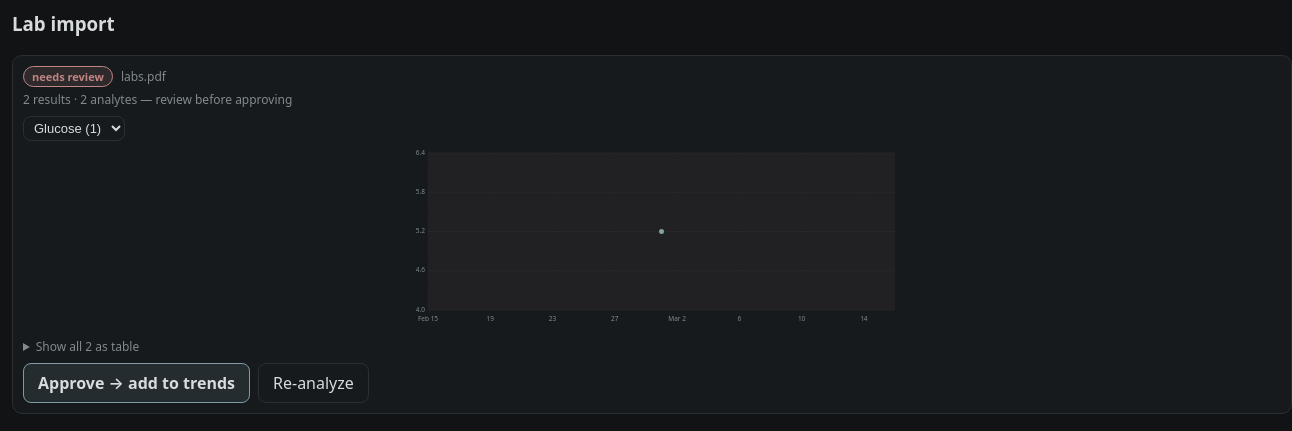
Scenario: LabImportPanel — approve › Approve posts to the approve endpoint and reflects the approved state
The width and height of the screenshot is (1292, 431).
Click the button "Approve → add to trends". click: click(136, 383)
box: [23,363,250,403]
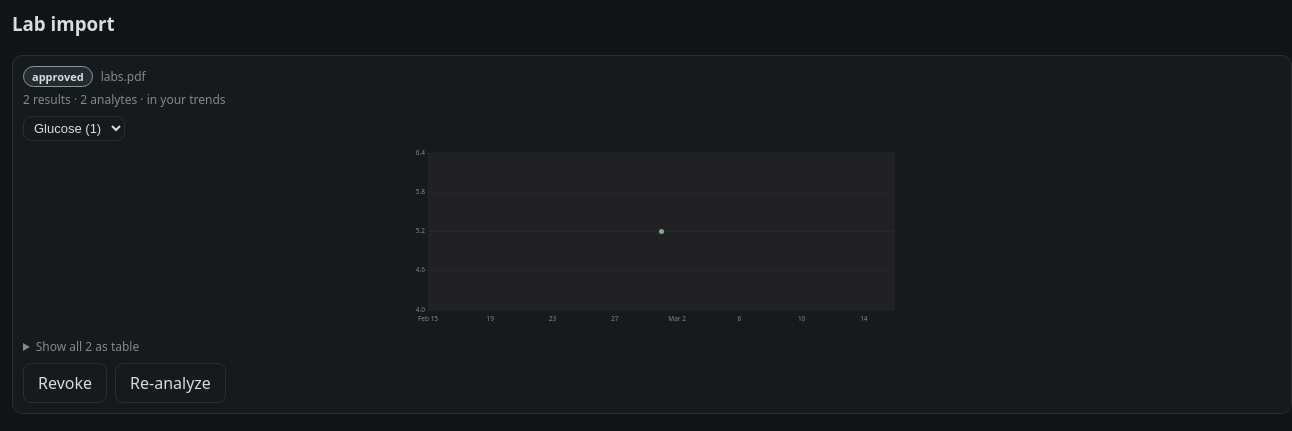
Result: the text "approved" is shown at [23,66,93,87]
Result: the text "2 results · 2 analytes · in your trends" is shown at [23,91,226,108]
Result: the button "Revoke" is shown at [23,363,107,403]
